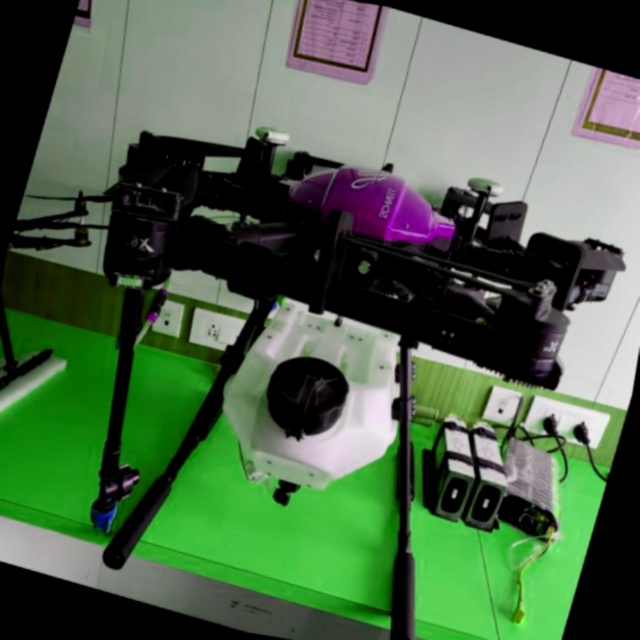agriculturedrone: (0, 61, 640, 640)
